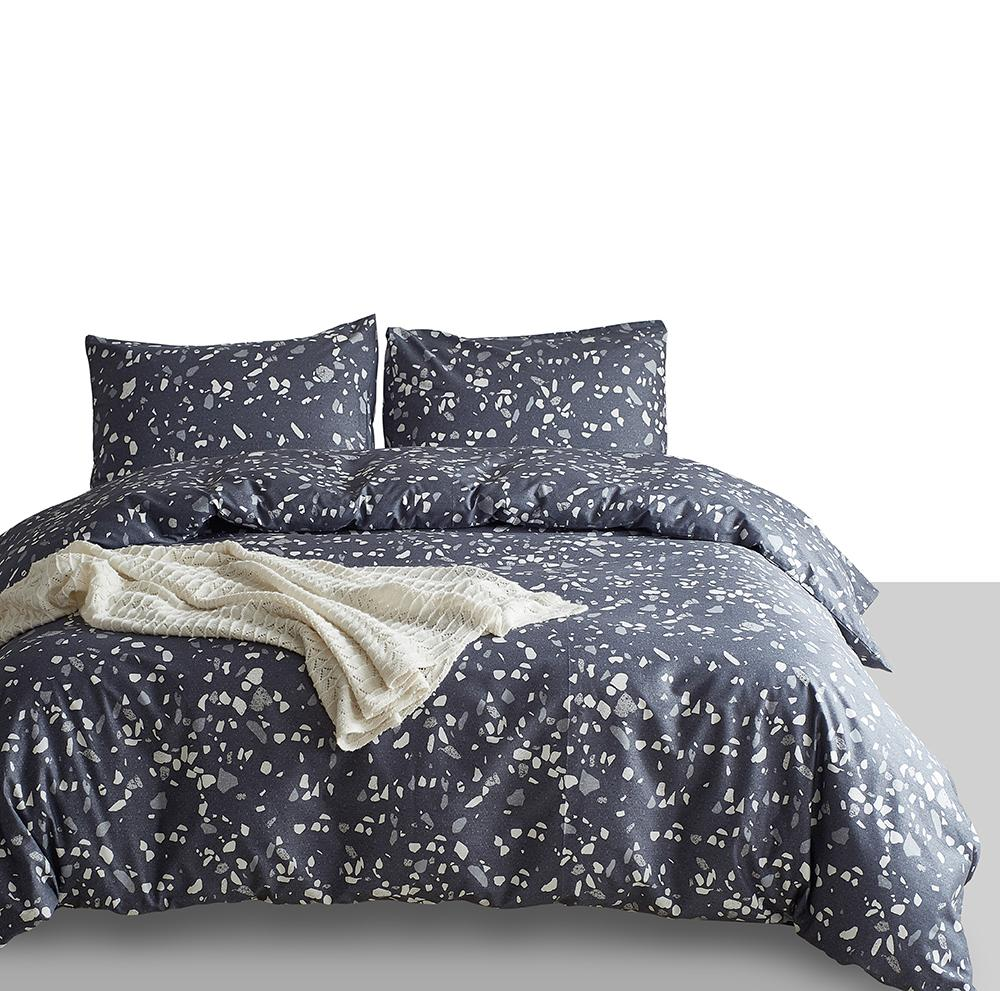bed: (0, 340, 945, 990)
